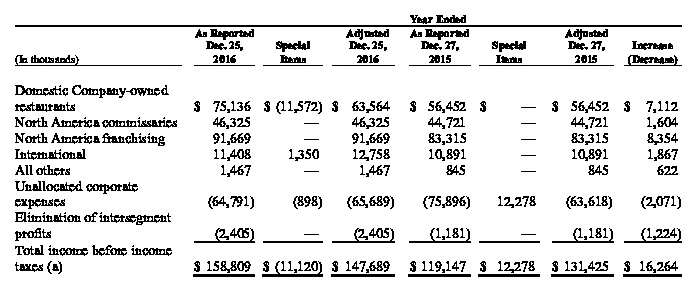table: (0, 0, 696, 290)
